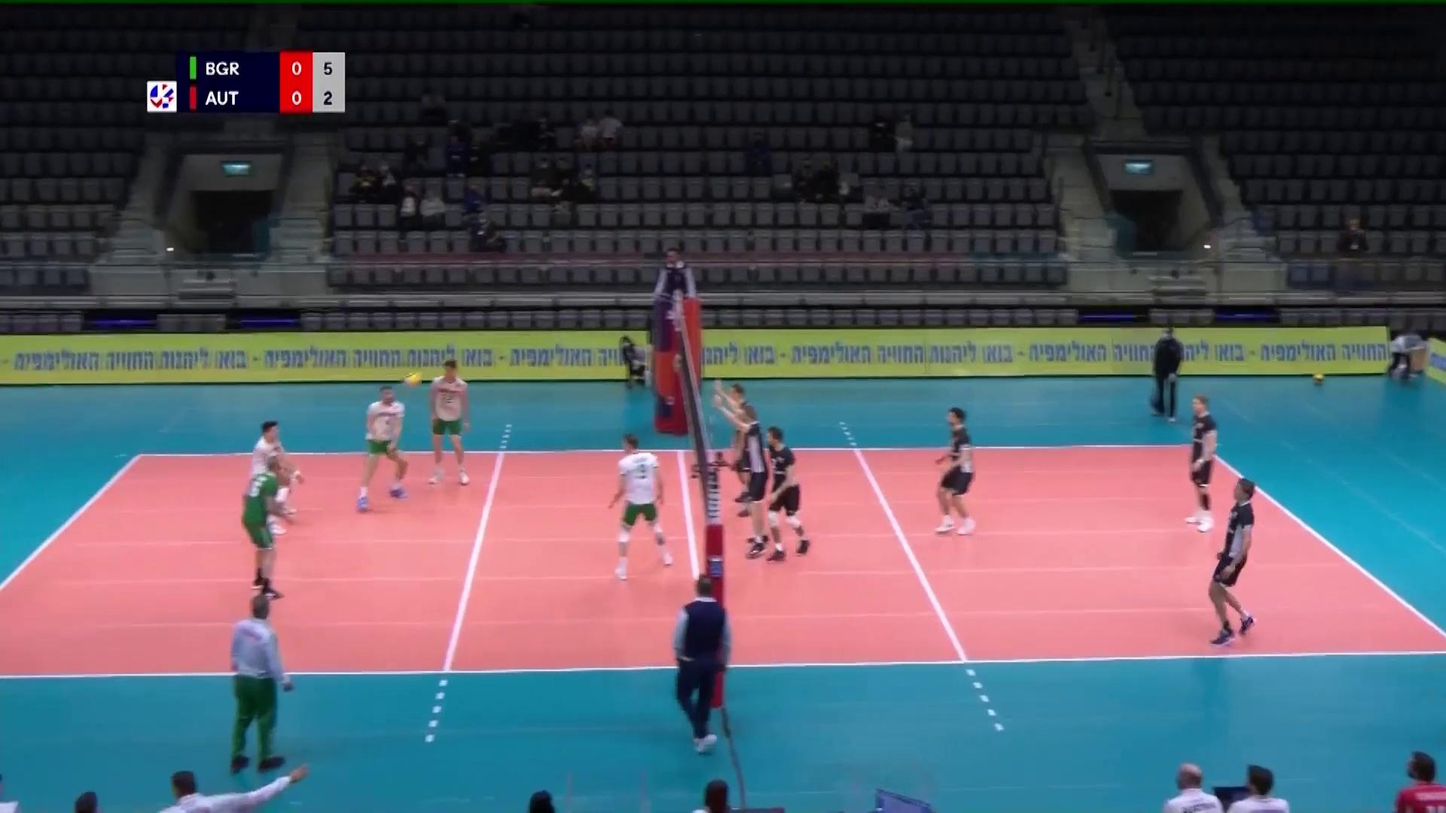ball: (406, 373, 422, 387)
